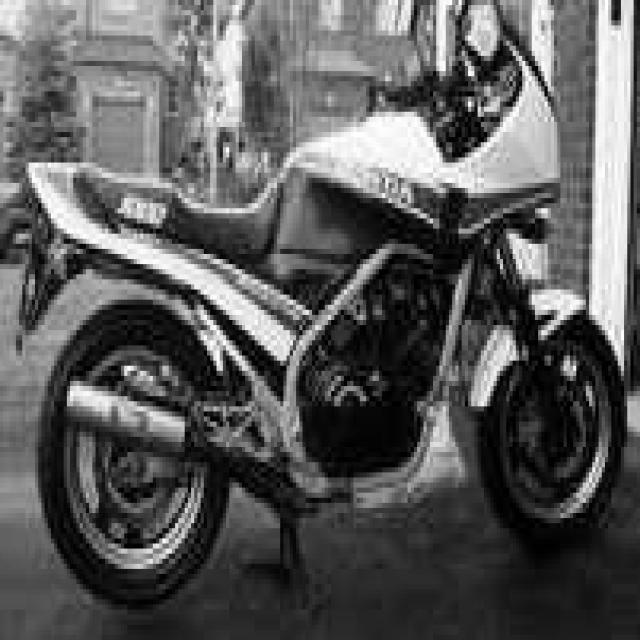Motorcycle: (20, 4, 626, 603)
